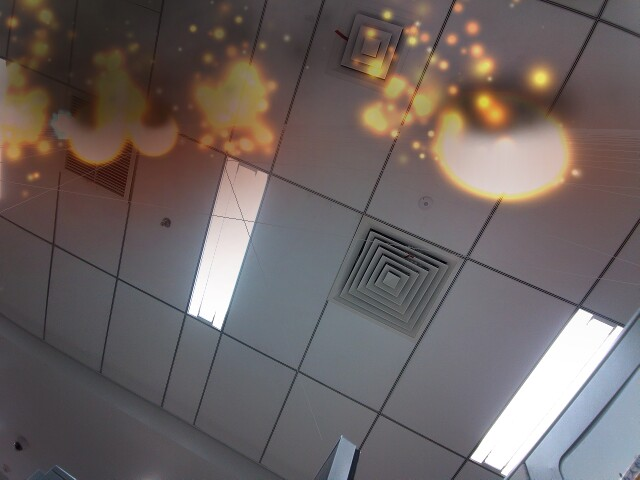fire: (433, 79, 578, 209), (68, 107, 125, 165), (132, 107, 179, 161)
